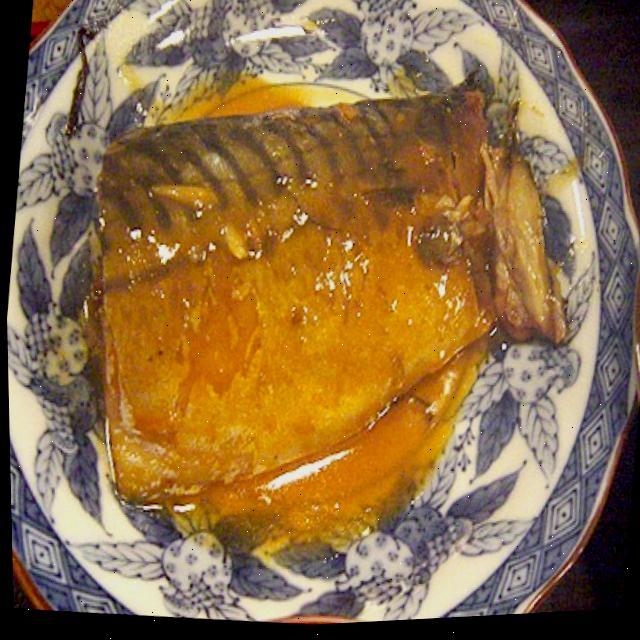熟制海鲜: (50, 29, 574, 562)
